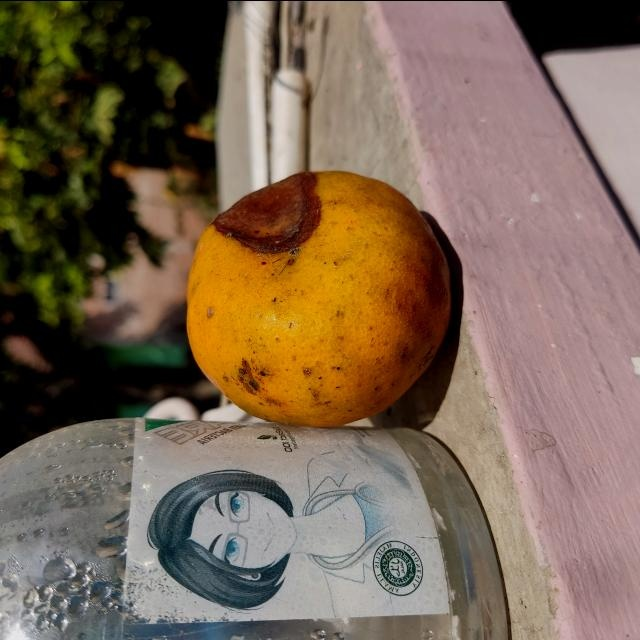agrume: (184, 164, 452, 428)
